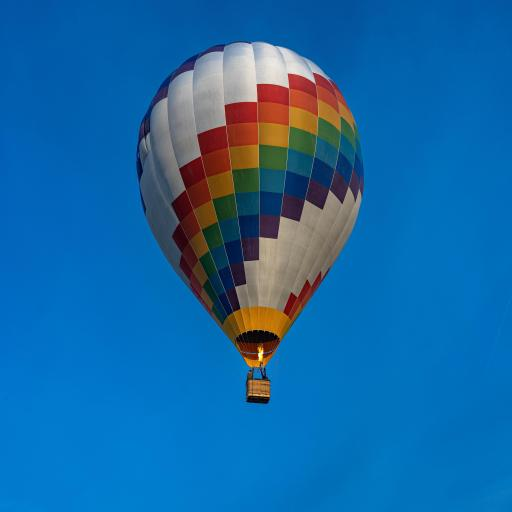hot air ballon: (138, 42, 364, 404)
